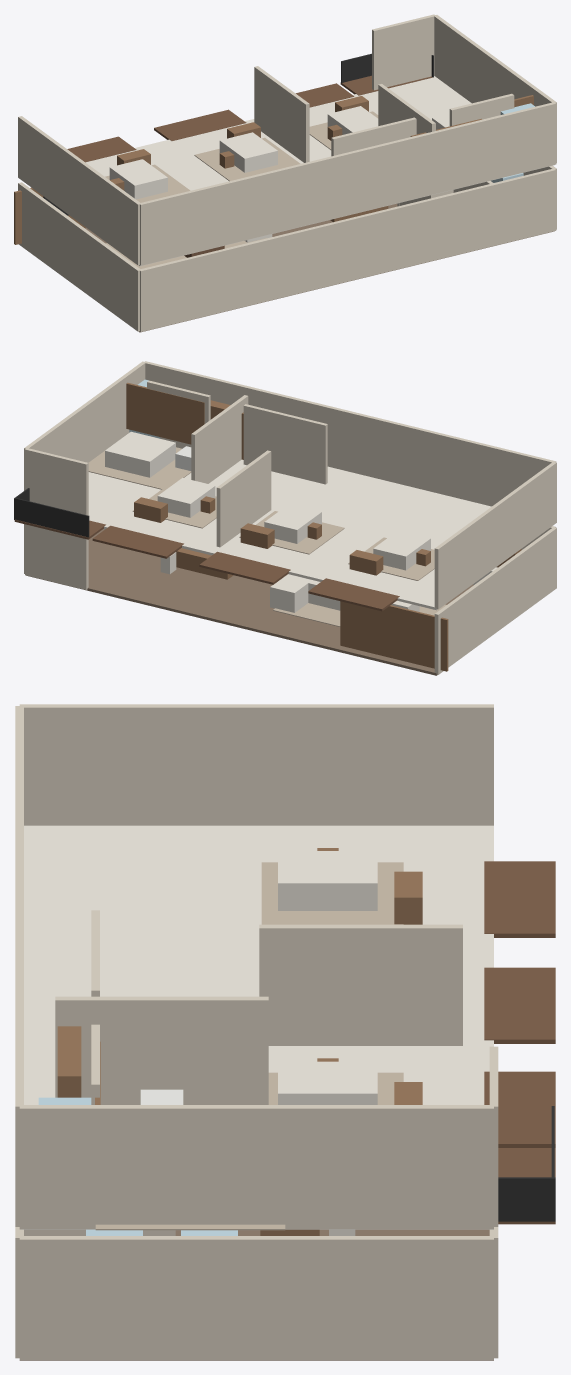
Rendered from casa_400mq_3D_arredata.glb.
3 views of the same model, one above another, from view 1: azimuth 30°, elevation 25°; view 2: azimuth 150°, elevation 25°; view 3: azimuth 270°, elevation 25° (orthographic). The views are drawn at different scales.
Parts seen in each view (by area): view 1: Parete posteriore, Parete posteriore primo piano, Parete lato sinistro primo piano, Parete lato sinistro, Solaio primo piano, Parete lato destro primo piano, Parete esterna primo piano, Parete divisoria camerette, Parete cabina, Letto cameretta 2, Letto cameretta 1, Terrazzino camera 2 (+12 smaller); view 2: Solaio primo piano, Parete posteriore primo piano, Pavimento piano terra, Parete lato sinistro primo piano, Parete lato sinistro, Parete TV cannette, Parete cabina, Parete lato destro primo piano, Parete divisoria camerette, Testata cannettata matrimoniale, Parete esterna primo piano, Parete esterna (+22 smaller); view 3: Solaio primo piano, Parete lato destro, Parete lato destro primo piano, Parete lato sinistro primo piano, Parete divisoria camerette, Parete suite, Letto cameretta 1, Terrazzino camera 2, Terrazzino camera 1, Terrazzino camera 3, Letto cameretta 3, Parete posteriore primo piano (+10 smaller).
Boxes of the visible parts, left/top/right/bottom form: Parete posteriore: left=139, top=168, right=556, bottom=331; Parete posteriore primo piano: left=139, top=102, right=556, bottom=265; Parete lato sinistro primo piano: left=18, top=116, right=139, bottom=265; Parete lato sinistro: left=18, top=182, right=140, bottom=331; Solaio primo piano: left=85, top=76, right=554, bottom=266; Parete lato destro primo piano: left=434, top=15, right=556, bottom=163; Parete esterna primo piano: left=372, top=14, right=435, bottom=90; Parete divisoria camerette: left=254, top=66, right=309, bottom=162; Parete cabina: left=331, top=117, right=416, bottom=156; Letto cameretta 2: left=219, top=132, right=277, bottom=172; Letto cameretta 1: left=109, top=159, right=167, bottom=199; Terrazzino camera 2: left=154, top=109, right=246, bottom=140; Solaio primo piano: left=88, top=459, right=491, bottom=610; Parete posteriore primo piano: left=144, top=361, right=556, bottom=506; Pavimento piano terra: left=26, top=529, right=473, bottom=675; Parete lato sinistro primo piano: left=434, top=462, right=556, bottom=609; Parete lato sinistro: left=434, top=527, right=556, bottom=674; Parete TV cannette: left=340, top=601, right=448, bottom=671; Parete cabina: left=243, top=404, right=327, bottom=484; Parete lato destro primo piano: left=24, top=361, right=145, bottom=490; Parete divisoria camerette: left=216, top=450, right=271, bottom=547; Testata cannettata matrimoniale: left=126, top=382, right=204, bottom=444; Parete esterna primo piano: left=25, top=448, right=88, bottom=515; Parete esterna: left=25, top=524, right=88, bottom=589; Solaio primo piano: left=19, top=825, right=493, bottom=1229; Parete lato destro: left=19, top=1236, right=493, bottom=1359; Parete lato destro primo piano: left=19, top=1105, right=493, bottom=1228; Parete lato sinistro primo piano: left=19, top=704, right=493, bottom=825; Parete divisoria camerette: left=259, top=924, right=462, bottom=1045; Parete suite: left=55, top=996, right=268, bottom=1104; Letto cameretta 1: left=278, top=851, right=377, bottom=910; Terrazzino camera 2: left=484, top=967, right=555, bottom=1043; Terrazzino camera 1: left=484, top=861, right=555, bottom=937; Terrazzino camera 3: left=484, top=1071, right=555, bottom=1147; Letto cameretta 3: left=278, top=1061, right=377, bottom=1104; Parete posteriore primo piano: left=15, top=706, right=23, bottom=1226.
Size of the model in its own units: 20.7 by 5.91 by 11.39.
